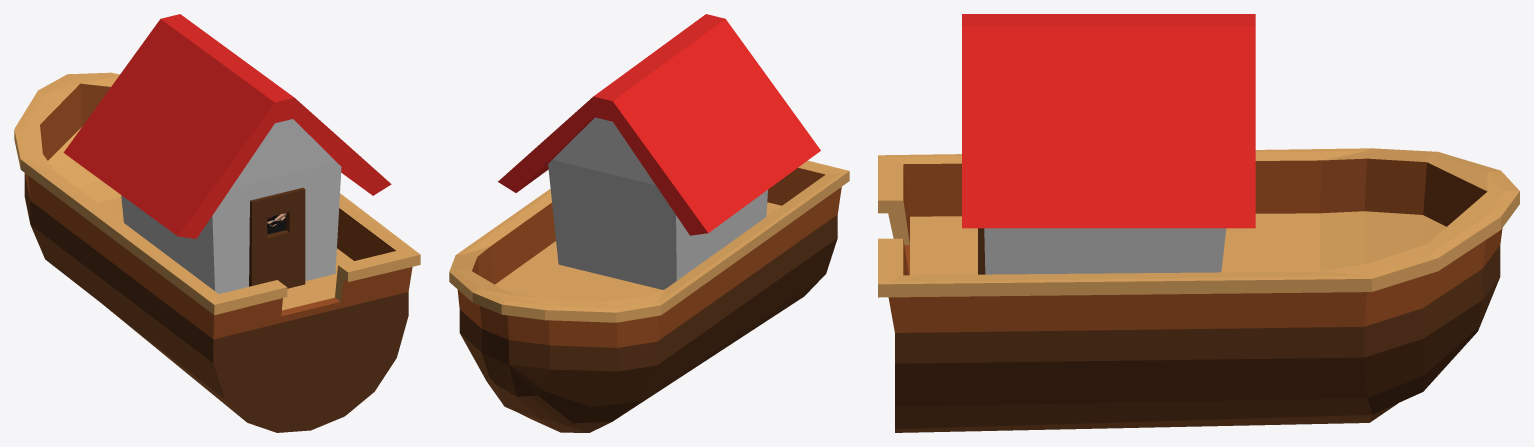
File: merchant_boat.glb
3 views of the same model, side by side, from view 1: azimuth 30°, elevation 25°; view 2: azimuth 150°, elevation 25°; view 3: azimuth 270°, elevation 25° (orthographic). The views are drawn at different scales.
Visible parts, largest first — view 1: Cylinder.007, Cube.226, Cube.227, Cube.228; view 2: Cylinder.007, Cube.226, Cube.227; view 3: Cylinder.007, Cube.226, Cube.227.
Boxes of the visible parts, x1,y1,x2,y2 form: Cylinder.007: (14, 72, 420, 432); Cube.226: (63, 14, 391, 238); Cube.227: (121, 119, 341, 293); Cube.228: (249, 187, 305, 288); Cylinder.007: (449, 160, 849, 432); Cube.226: (498, 14, 820, 235); Cube.227: (548, 117, 767, 289); Cylinder.007: (878, 148, 1519, 432); Cube.226: (962, 14, 1255, 228); Cube.227: (984, 228, 1226, 274).
Size of the model in its own units: 2.16 by 3 by 4.37.
9 materials, 3 textured.
